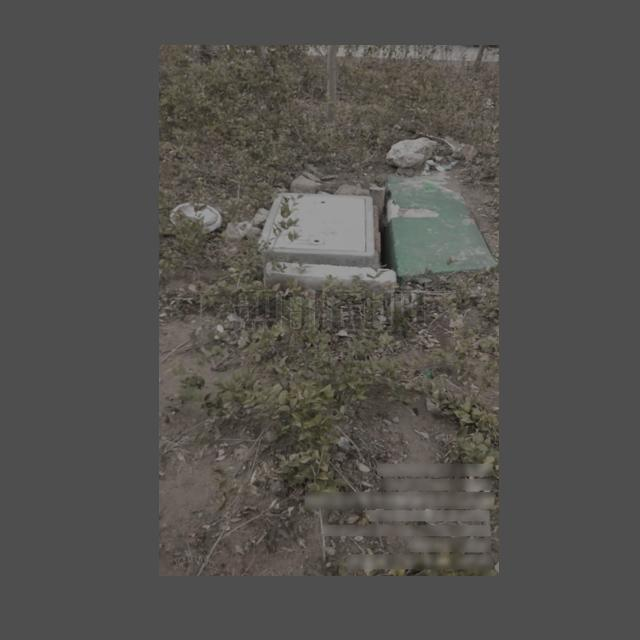circle: (250, 186, 399, 282)
